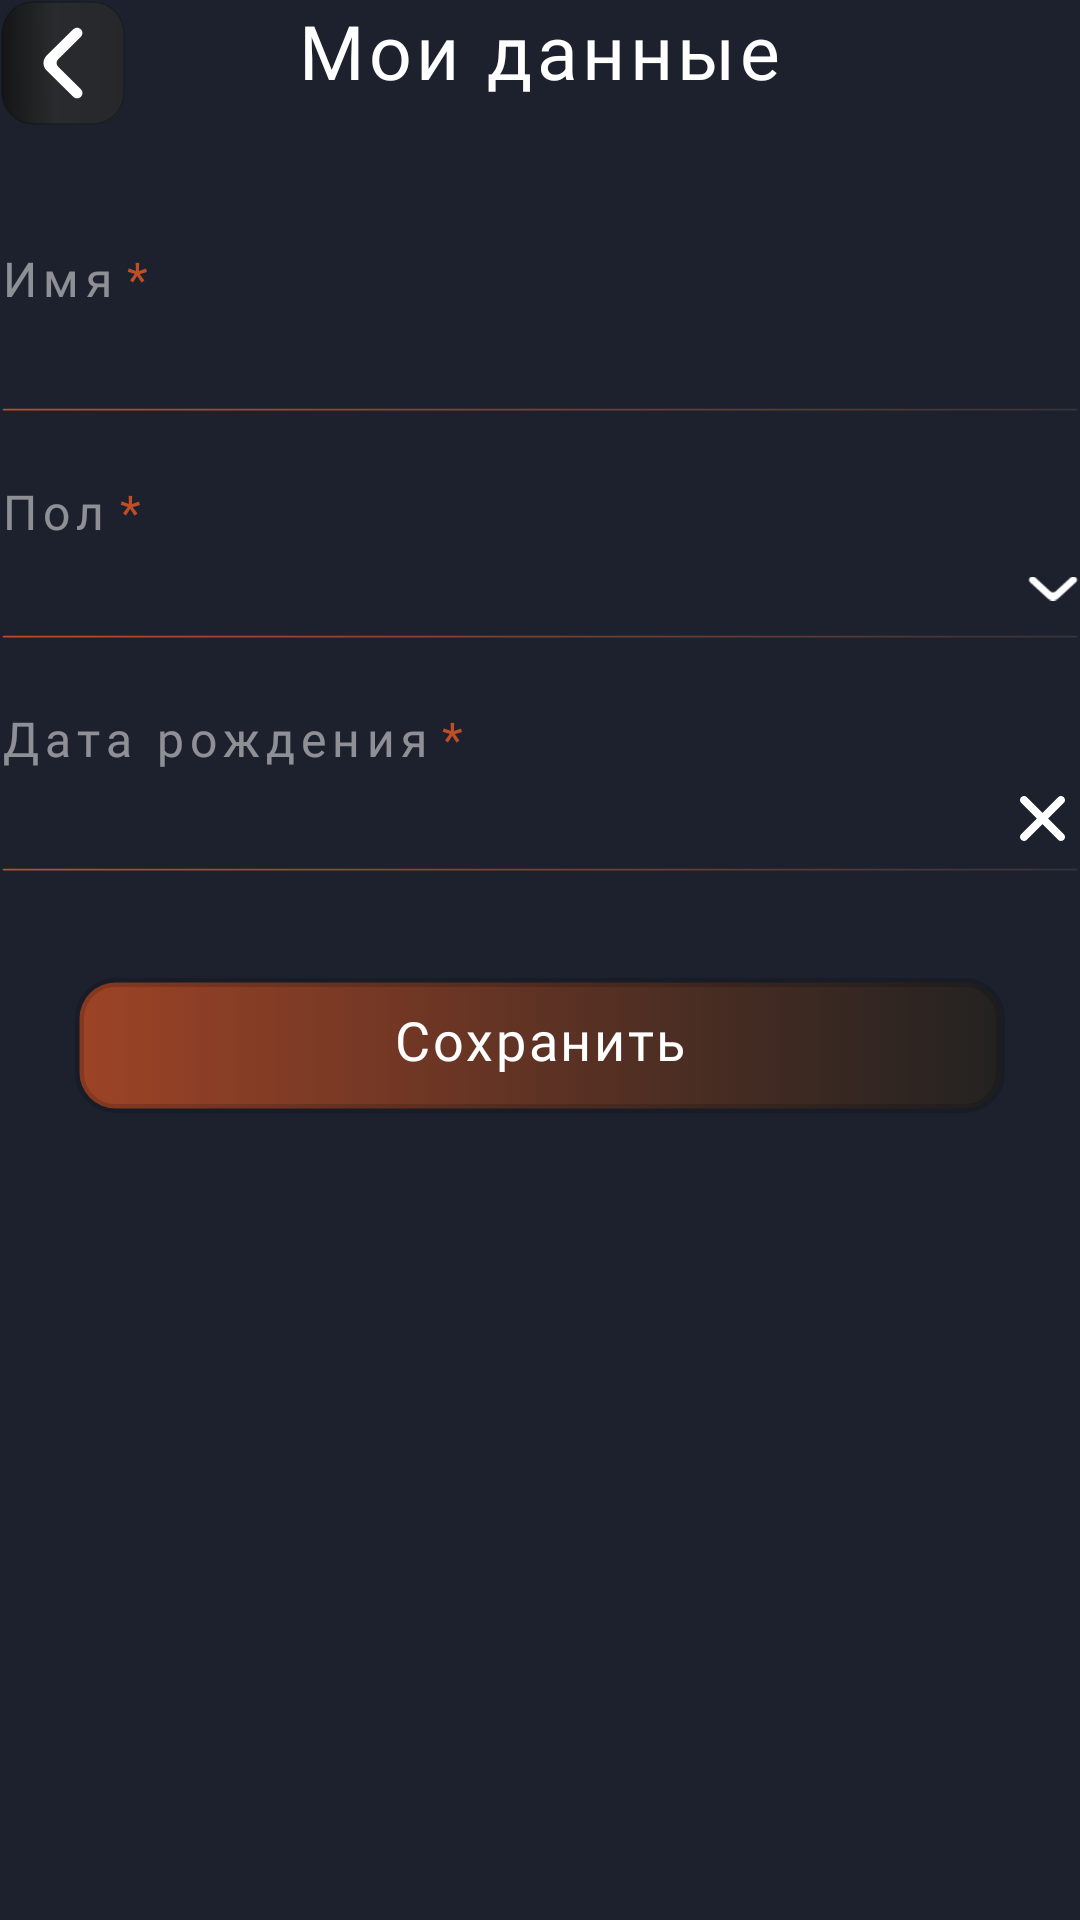

Where icons sit on this 1080px×1920px app screen, as [x1,y1,x2,y2]:
crossik: [1020,796,1065,841]
